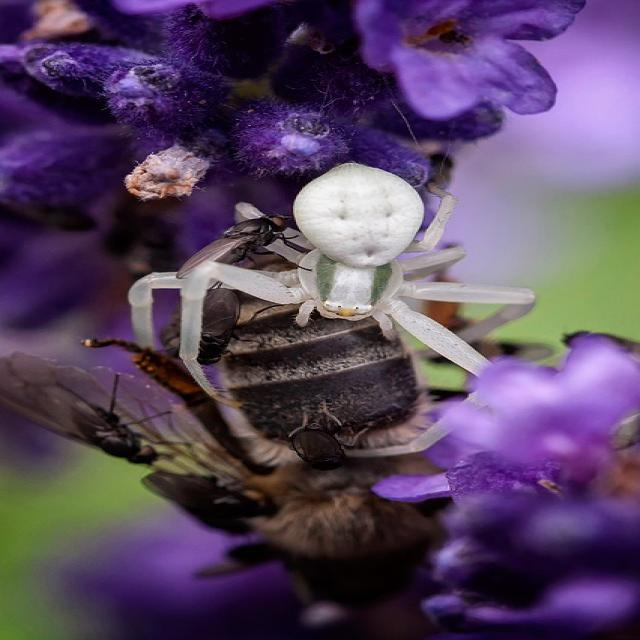spyder: (130, 164, 535, 399)
